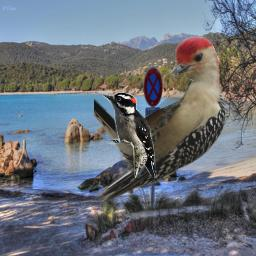Woodpecker: (94, 36, 225, 209), (102, 92, 157, 178)
